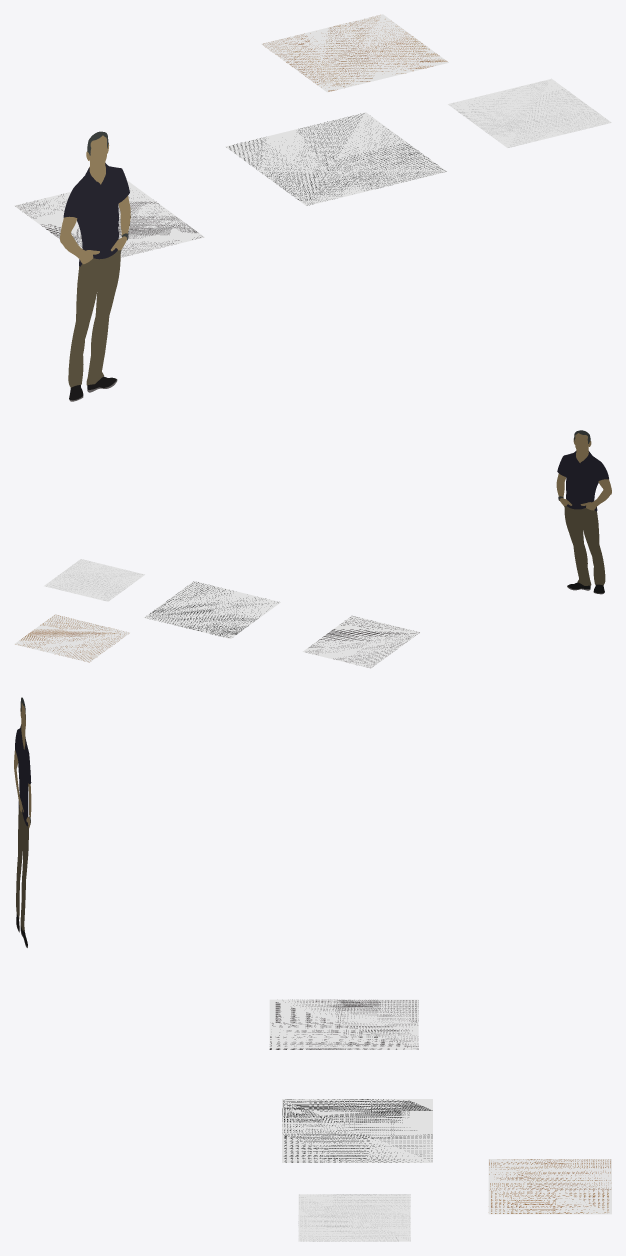
Rendered from texturesScetchUp1.dae.
The picture shows the model from 3 angles, top to bottom: view 1: azimuth 30°, elevation 25°; view 2: azimuth 150°, elevation 25°; view 3: azimuth 270°, elevation 25°; orthographic projection. The views are drawn at different scales.
Parts seen in each view (by area): view 1: SketchUp (×4), Chris (×4); view 2: SketchUp (×4), Chris (×4); view 3: SketchUp (×4), Chris (×2).
Part boxes in pixels (<box>): SketchUp (×4): <box>14,14,611,257</box>; Chris (×4): <box>60,135,129,387</box>; SketchUp (×4): <box>14,559,419,668</box>; Chris (×4): <box>557,433,611,585</box>; SketchUp (×4): <box>269,999,611,1241</box>; Chris (×2): <box>15,724,31,930</box>.
Size of the model in its own units: 197 by 155 by 69.5.
